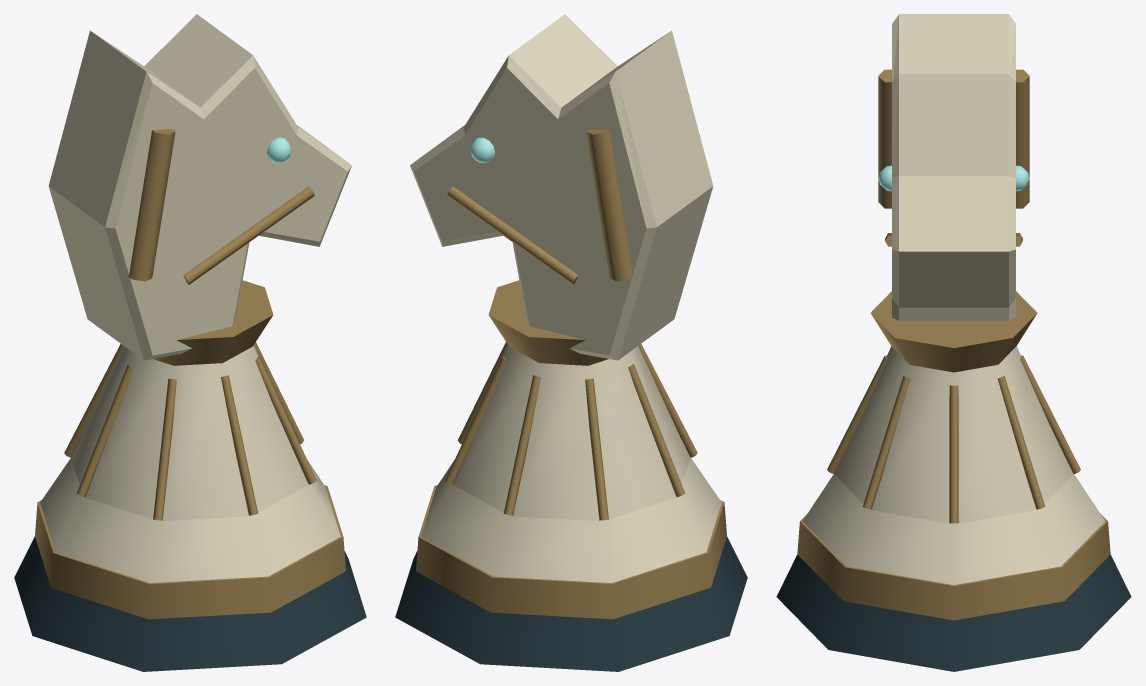
The model's file is knight.glb.
3 views of the same model, side by side, from view 1: azimuth 30°, elevation 25°; view 2: azimuth 150°, elevation 25°; view 3: azimuth 270°, elevation 25° (orthographic). The views are drawn at different scales.
Parts seen in each view (by area): view 1: stone (×5), horse, engraving (×6), mane, bridle; view 2: stone (×5), horse, engraving (×6), mane, bridle; view 3: stone (×5), horse, engraving (×5), mane (×2).
Boxes of the visible parts, box(x1,y1,x2,y2) form: stone (×5): box(14, 280, 366, 671); horse: box(48, 14, 351, 360); engraving (×6): box(64, 342, 316, 520); mane: box(128, 129, 175, 281); bridle: box(183, 186, 314, 284); stone (×5): box(395, 280, 747, 671); horse: box(410, 14, 713, 360); engraving (×6): box(445, 342, 697, 520); mane: box(586, 129, 633, 281); bridle: box(447, 186, 578, 284); stone (×5): box(776, 291, 1131, 671); horse: box(892, 14, 1015, 320); engraving (×5): box(827, 355, 1080, 523); mane (×2): box(878, 69, 1029, 208).
Size of the model in its own units: 0.68 by 1.16 by 0.68.
